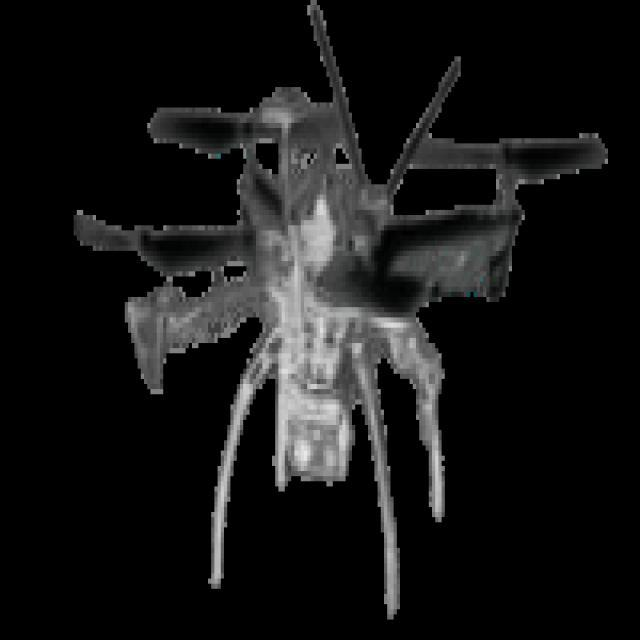drone: (96, 4, 624, 618)
